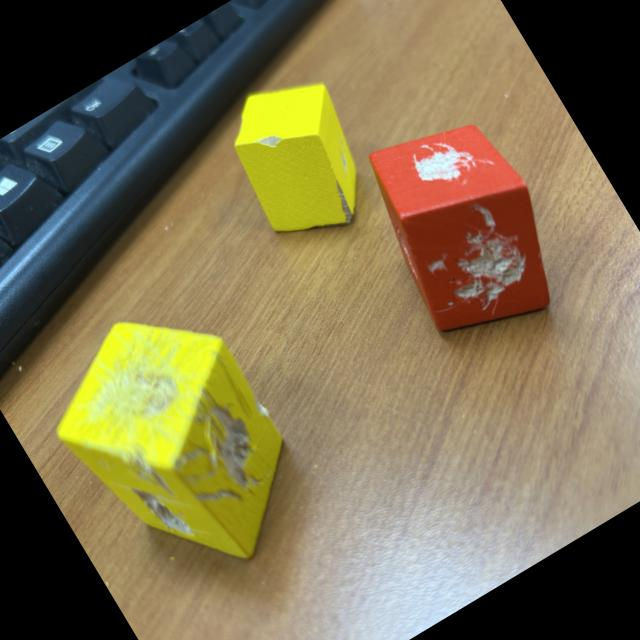broken: (22, 276, 330, 612), (342, 94, 586, 361), (207, 58, 393, 259)
